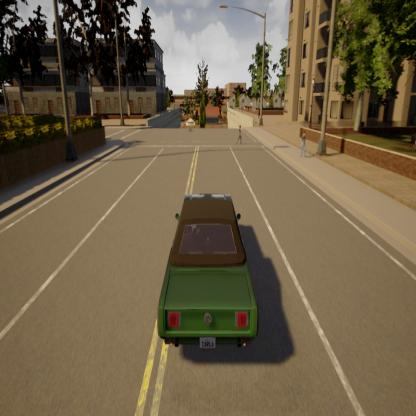Cars: (148, 183, 270, 368)
Pedestrian: (298, 124, 311, 169), (236, 123, 245, 150)
